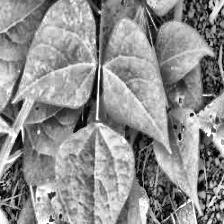ALS: (156, 78, 200, 203), (187, 78, 224, 169), (96, 174, 155, 224), (31, 176, 78, 224)
